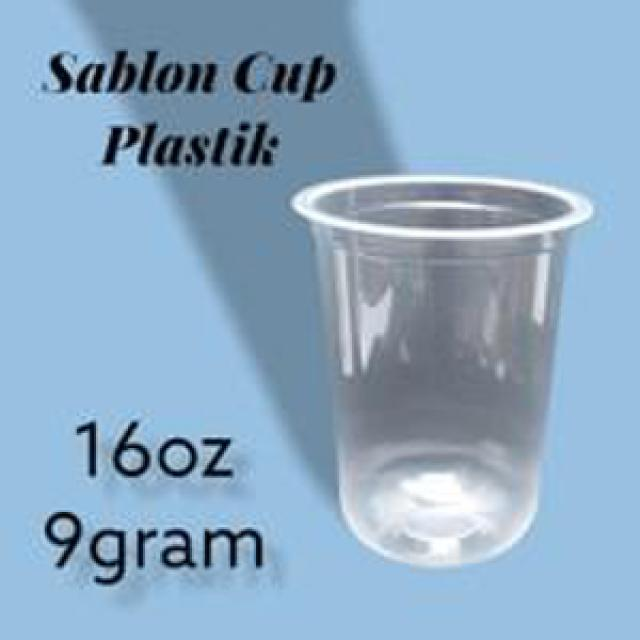plastic cup: (282, 168, 600, 574)
